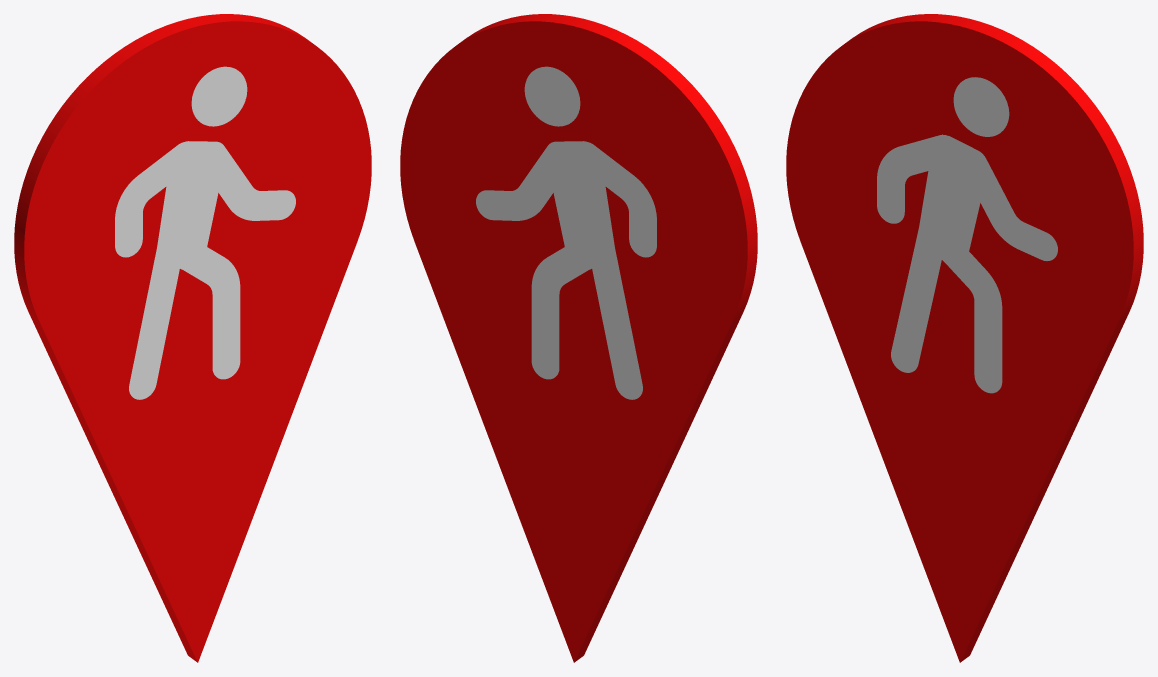
File: red-walk (1).glb
3 views of the same model, side by side, from view 1: azimuth 30°, elevation 25°; view 2: azimuth 150°, elevation 25°; view 3: azimuth 330°, elevation 25° (orthographic).
Visible parts, largest first — view 1: Layer 01, Layer 02; view 2: Layer 01, Layer 02; view 3: Layer 01, Layer 02.
Boxes of the visible parts, <box> form: Layer 01: <box>14,14,371,662</box>; Layer 02: <box>115,66,295,399</box>; Layer 01: <box>400,14,757,662</box>; Layer 02: <box>476,66,656,399</box>; Layer 01: <box>786,14,1143,662</box>; Layer 02: <box>877,77,1057,393</box>.
Bounding box in the file's own units: 5.71 × 10 × 0.2857.
